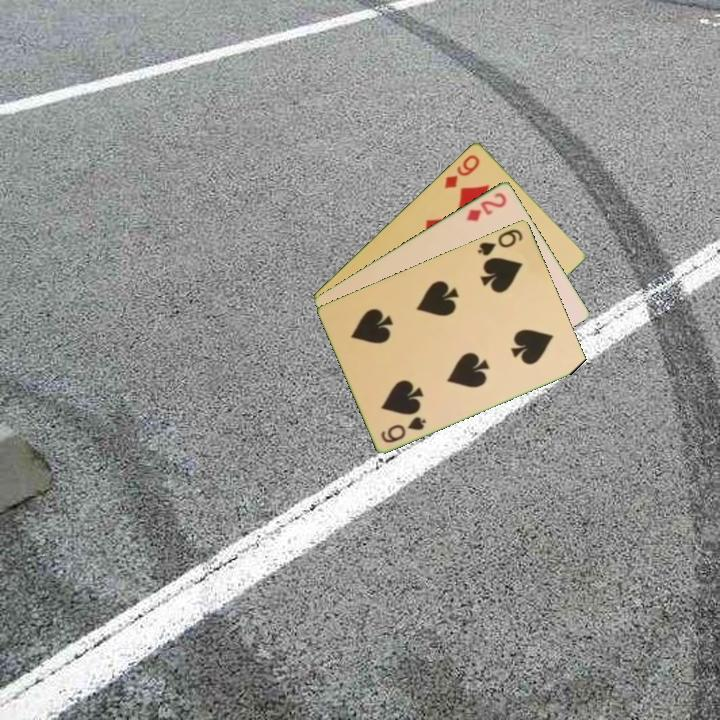2d: (463, 188, 509, 224)
6s: (474, 225, 526, 258), (378, 413, 429, 445)
9d: (440, 150, 482, 191)
